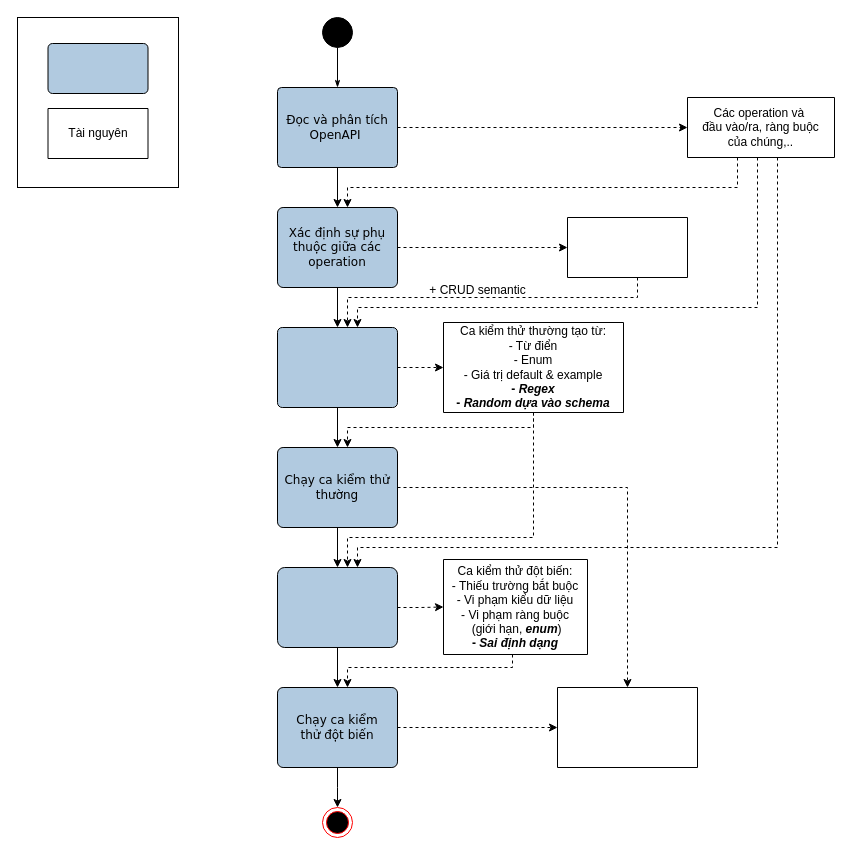
Some shapes in this 852 by 855 pixel diagram are drawn without their labels. Each missing label, with the box of its shape:
Báo cáo: - Karate testcase cho request 2xx hoặc 5xx - Cucumber report: (556, 686, 698, 768)
Hoạt động: (47, 42, 148, 94)
Operation Dependency Graph: (566, 216, 688, 278)
Tạo ca kiểm thử thường: (276, 326, 398, 408)
Tạo ca kiểm thử đột biến từ các ca kiểm thử thường: (276, 566, 398, 648)
